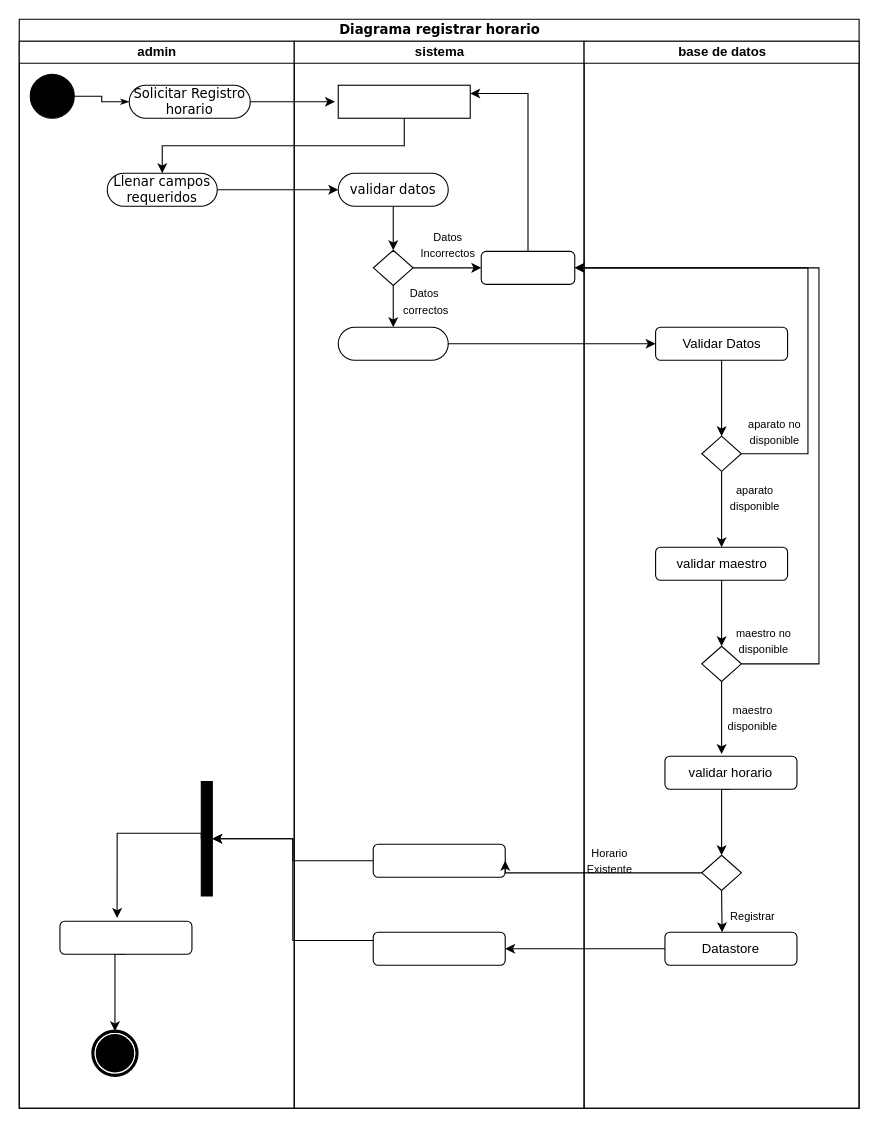
This 879x1128 diagram has some shape labels left out. Here are the shapes that lost their labels. From the top down, the centre of each, then its label:
the point at 403,101: Mostrar Interfaz
the point at 527,267: Mensaje error
the point at 392,343: Solicitar inserccion
the point at 438,860: dengar registro
the point at 125,937: infromar operacion
the point at 438,948: informar registro
